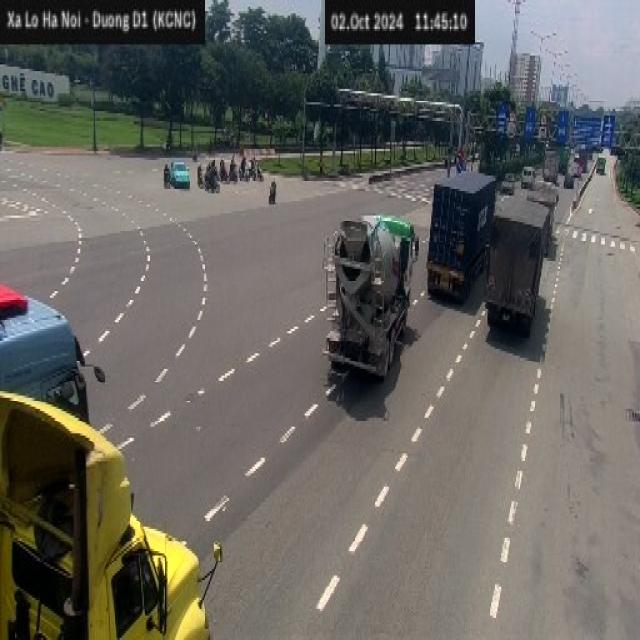container-truck: (0, 389, 221, 638), (425, 169, 496, 304)
truck: (321, 211, 419, 380), (482, 187, 556, 336)
